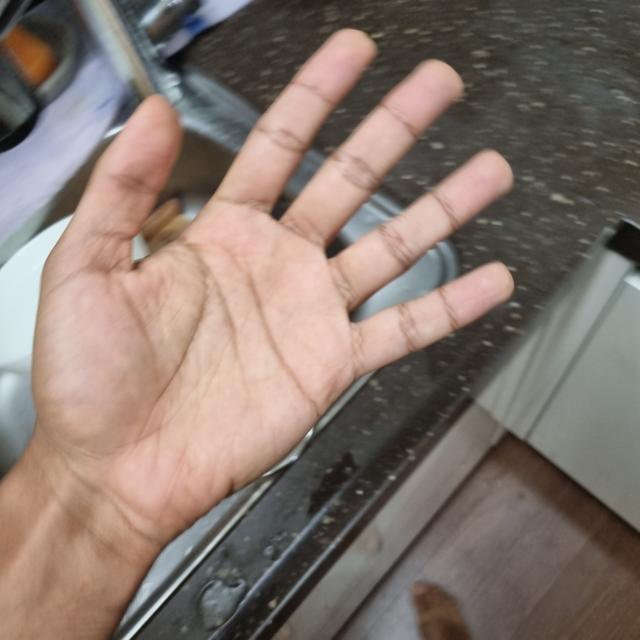Paper: (24, 27, 516, 531)
